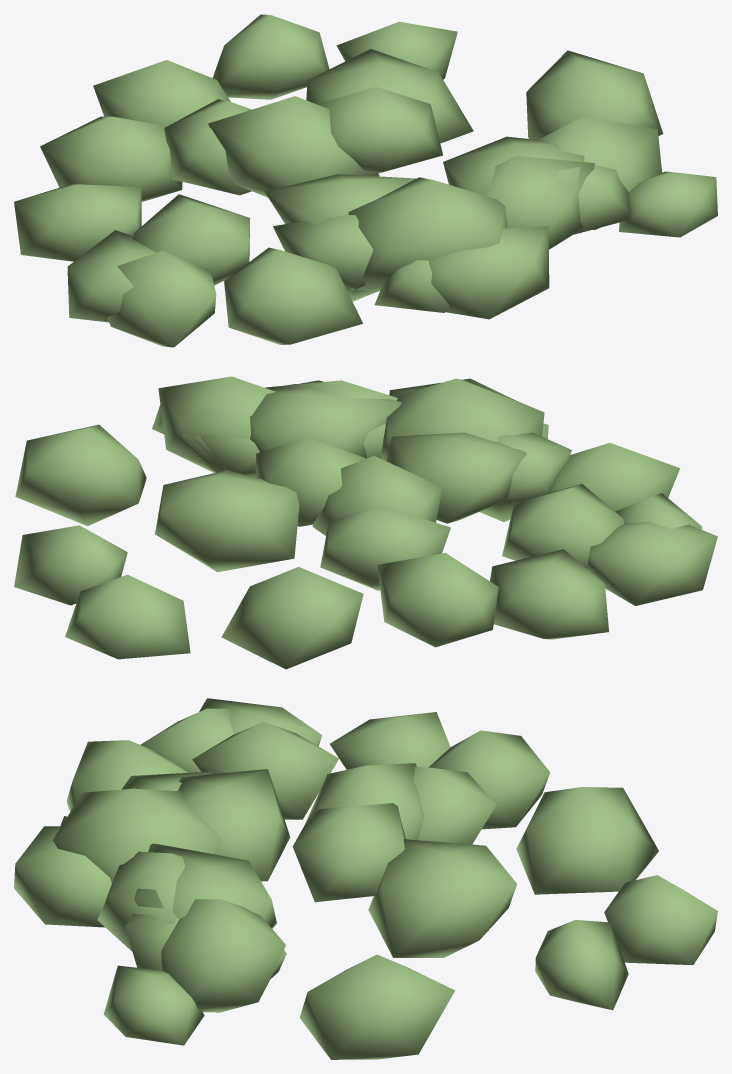
Rendered from Blender_Juniper_1.glb.
3 renders of one model, top to bottom at view 1: azimuth 30°, elevation 25°; view 2: azimuth 150°, elevation 25°; view 3: azimuth 270°, elevation 25°, orthographic. The views are drawn at different scales.
Visible parts, largest first — view 1: Blender_Juniper_1; view 2: Blender_Juniper_1; view 3: Blender_Juniper_1.
Part boxes in pixels (bbox=[...]): Blender_Juniper_1: bbox=[14, 14, 717, 347]; Blender_Juniper_1: bbox=[14, 376, 717, 669]; Blender_Juniper_1: bbox=[14, 698, 717, 1059].
Bounding box in the file's own units: 2.99 × 0.6447 × 2.75.
